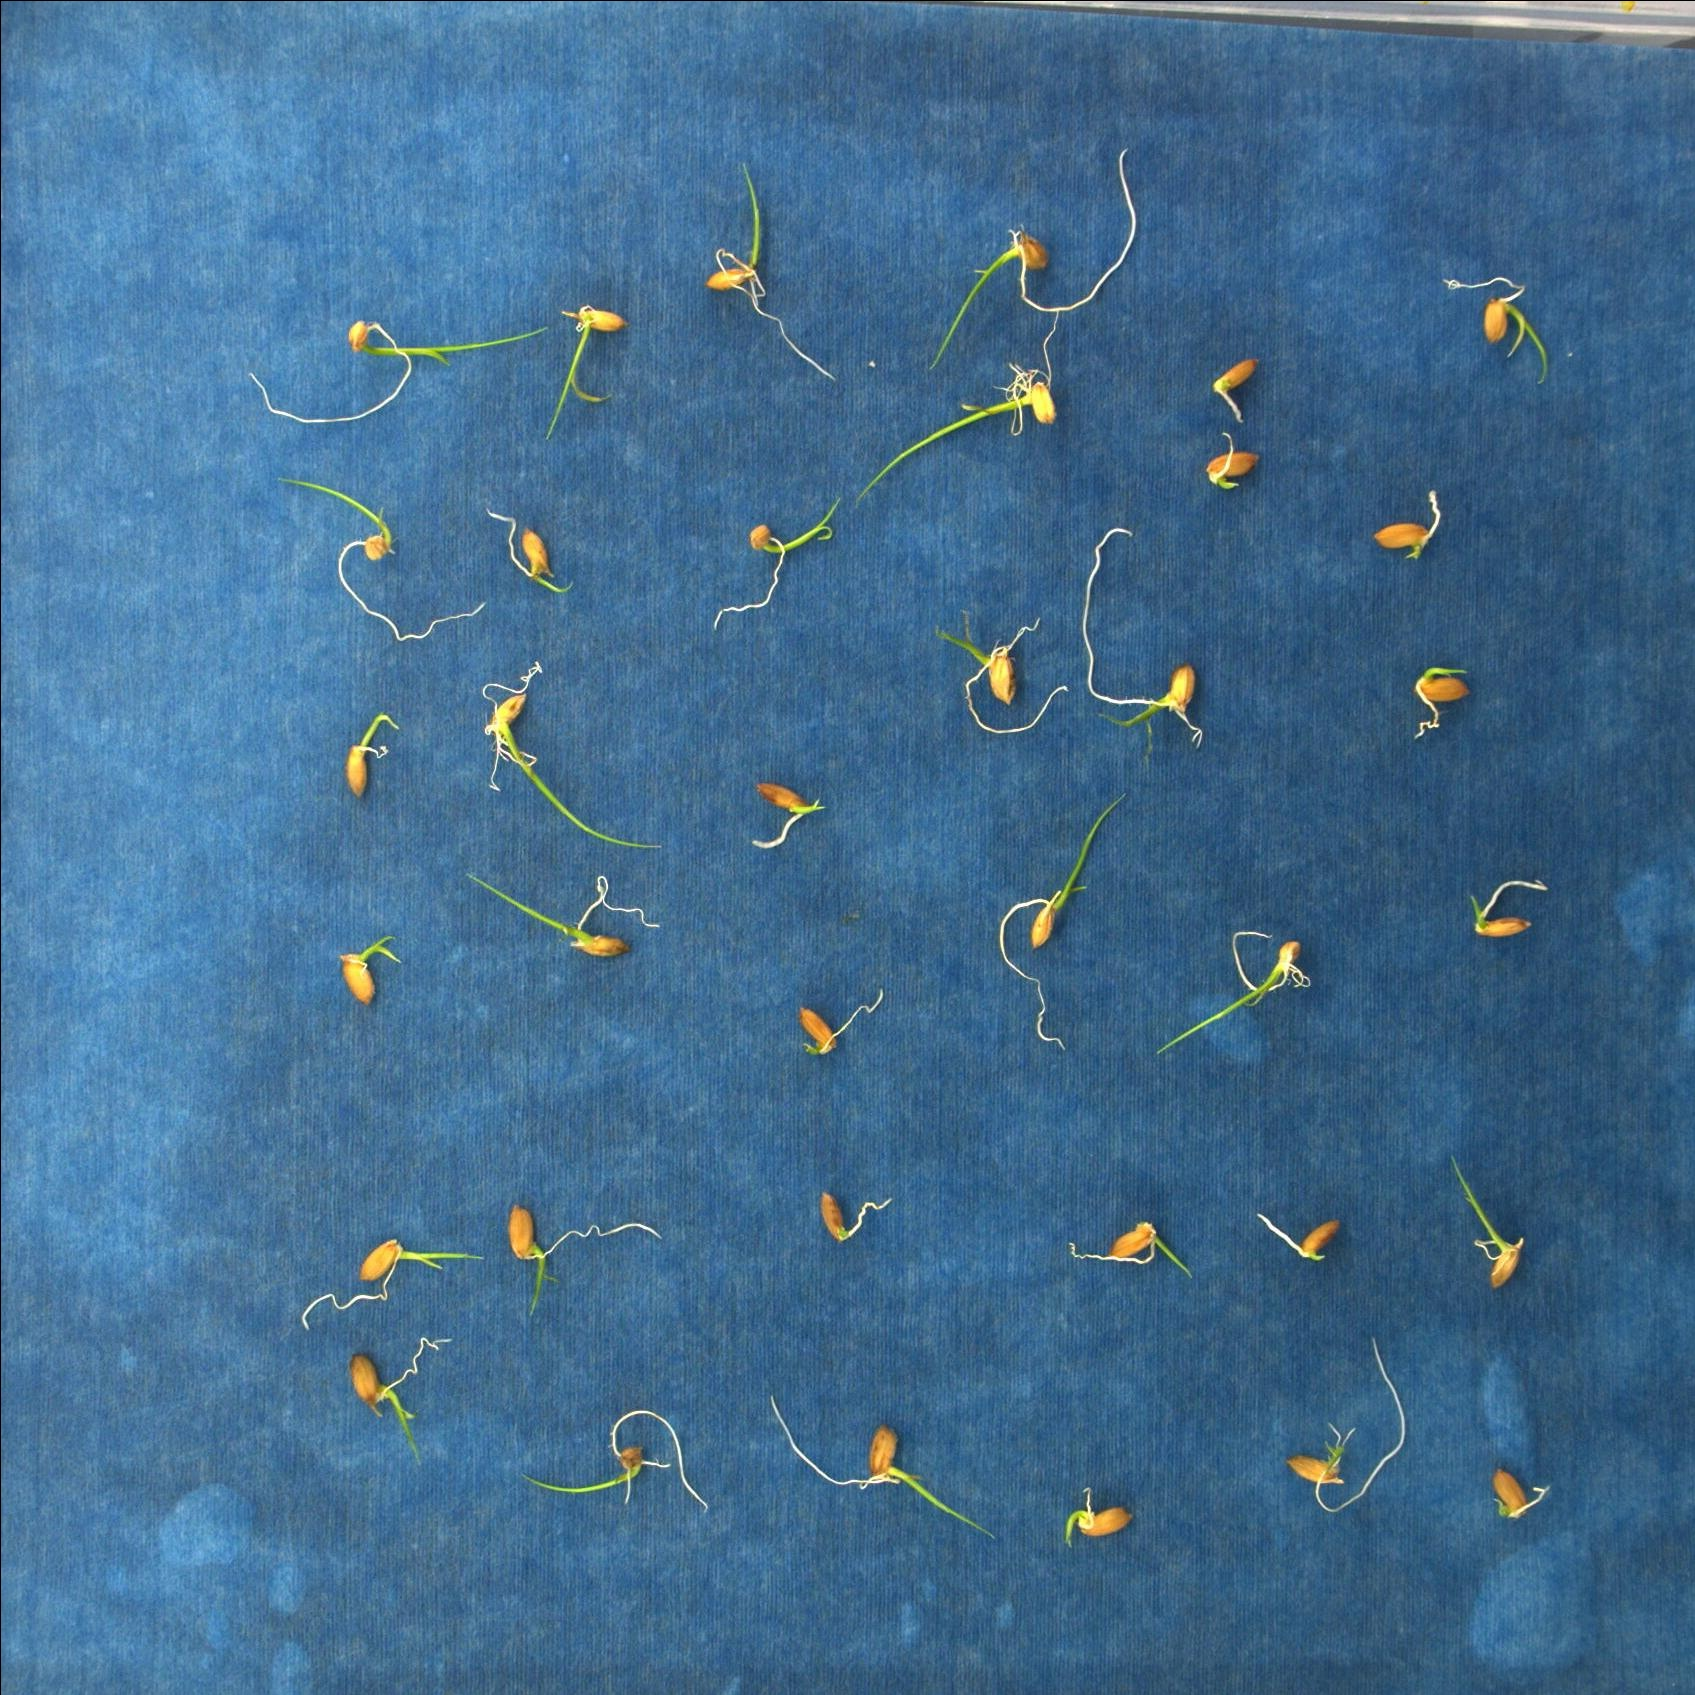not sprout: (1372, 484, 1445, 560), (1254, 1209, 1346, 1267), (816, 1191, 891, 1245), (1212, 355, 1262, 427)
sprout: (927, 144, 1146, 369), (854, 310, 1069, 504), (267, 469, 487, 641), (477, 660, 667, 852), (997, 787, 1132, 1052), (765, 1391, 997, 1544), (244, 317, 554, 427), (705, 157, 843, 390), (1082, 520, 1209, 750), (1285, 1336, 1412, 1520), (1152, 927, 1312, 1060), (459, 865, 658, 962), (520, 1409, 714, 1509), (508, 1200, 663, 1318), (711, 497, 844, 632), (931, 607, 1069, 736), (293, 1239, 484, 1332), (1440, 270, 1552, 386), (348, 1330, 447, 1461), (545, 300, 627, 447), (1450, 1152, 1529, 1296), (1065, 1215, 1197, 1284), (489, 504, 573, 601), (795, 989, 883, 1059), (747, 776, 823, 852), (335, 930, 400, 1009), (1060, 1487, 1139, 1552), (1471, 879, 1552, 941), (1409, 661, 1471, 740), (343, 706, 396, 798), (1201, 430, 1262, 497), (1492, 1467, 1552, 1520)
